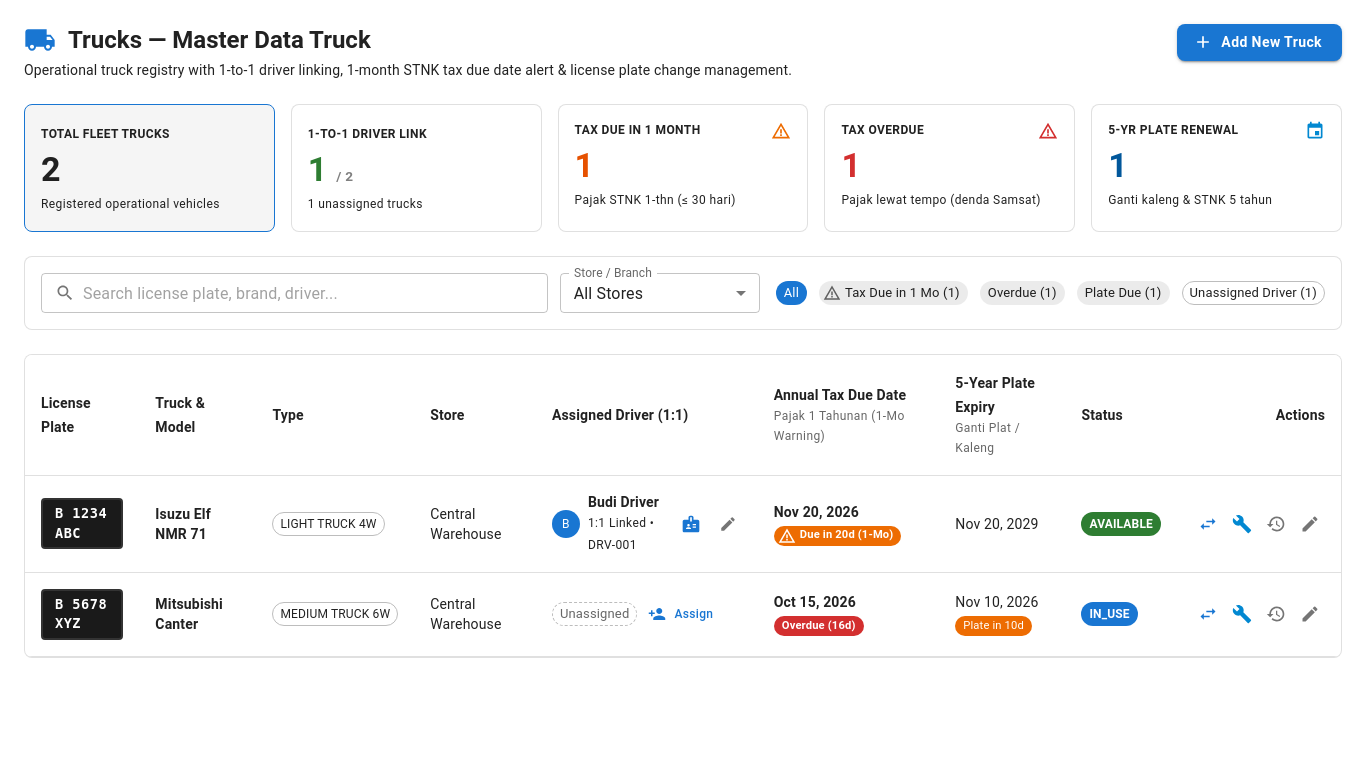
Scenario: TruckListPage - Master Data Truck › opens Details & Inspections dialog with tabs for Service Logs, Travelled Distance, and Monthly Health Check
The width and height of the screenshot is (1366, 768).
Click the button named "Service Logs, Distance & Monthly Inspections" in the row of "B 1234 ABC" at {"x": 1242, "y": 524}, box [1227,509,1257,539]
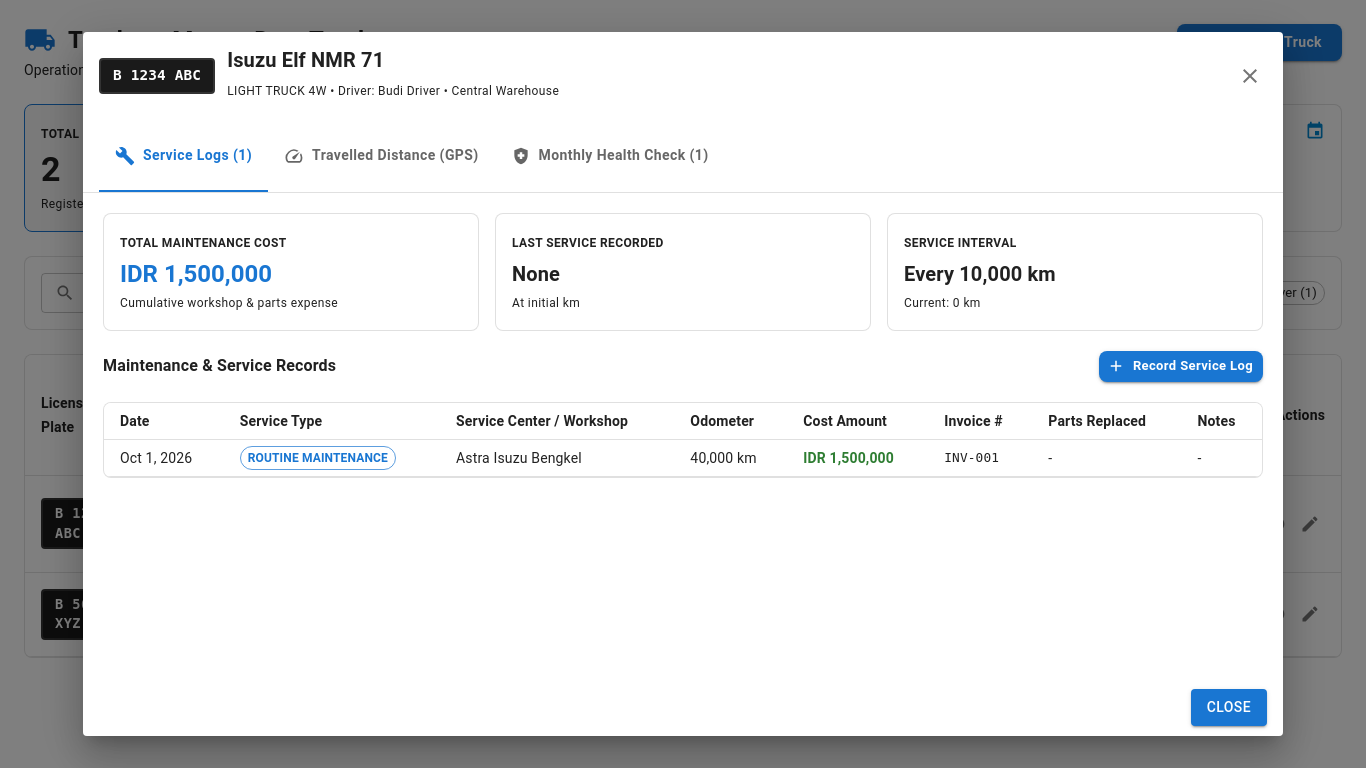
expect the tab "Service Logs (1)" is shown: met, box [99,120,268,192]
expect the tab "Travelled Distance (GPS)" is shown: met, box [268,120,495,192]
expect the tab "Monthly Health Check (1)" is shown: met, box [495,120,724,192]
